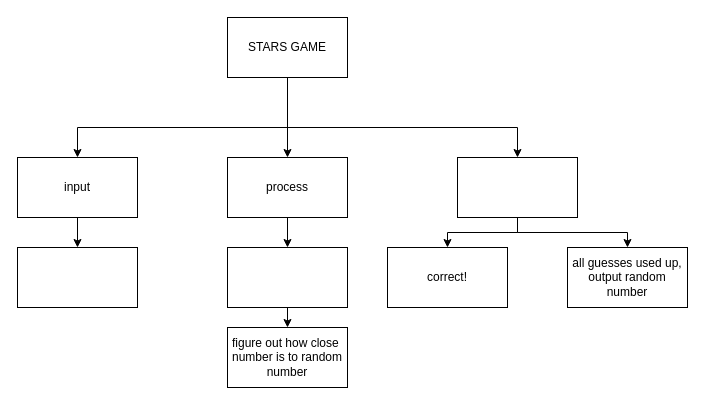
This 705x405 diagram has some shape labels left out. Each missing label, with the box of its shape:
get random number 1-100: (226, 246, 348, 308)
guesses: (16, 246, 138, 308)
output: (456, 156, 578, 218)
